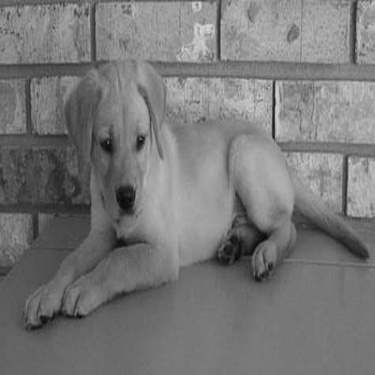dog: (12, 47, 370, 338)
